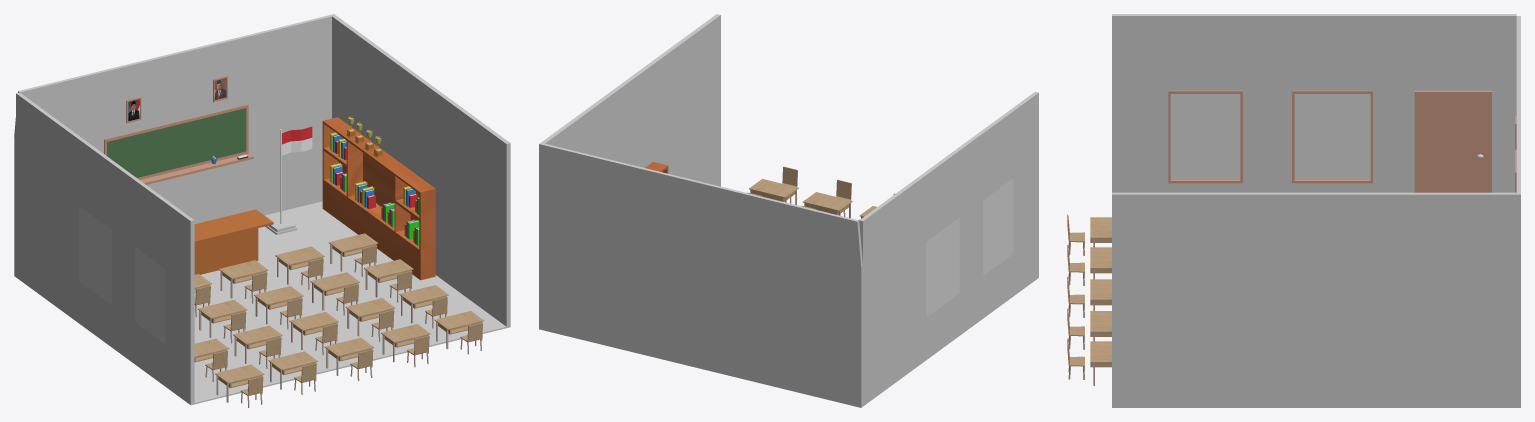
The model's file is Kelas.fbx.
The picture shows the model from 3 angles, left to right: view 1: azimuth 30°, elevation 25°; view 2: azimuth 150°, elevation 25°; view 3: azimuth 270°, elevation 25°; orthographic projection. The views are drawn at different scales.
Parts seen in each view (by area): view 1: Plane, Tembok utama, tembok kanan, Rak Buku, Papan, Pintu, Cube, Plane.003, Cube.004, Meja.007, Meja, Meja.010 (+14 smaller); view 2: Tembok utama, Plane, tembok kanan, Pintu, Plane.003, Meja.015, Meja.019; view 3: tembok kanan, Plane, Pintu, Plane.003, Tembok utama, Meja.019, Meja.018, Meja.016, Meja.015, Meja.017.
Boxes of the visible parts, x1,y1,x2,y2 form: Plane: (16, 92, 506, 404); Tembok utama: (14, 14, 335, 276); tembok kanan: (332, 15, 510, 327); Rak Buku: (322, 117, 435, 280); Papan: (104, 104, 253, 184); Pintu: (26, 166, 59, 309); Cube: (194, 209, 273, 274); Plane.003: (78, 203, 112, 307); Cube.004: (265, 126, 312, 234); Meja.007: (218, 260, 268, 298); Meja: (345, 298, 395, 336); Meja.010: (198, 300, 247, 337); Tembok utama: (539, 143, 862, 407); Plane: (859, 91, 1038, 406); tembok kanan: (541, 14, 720, 186); Pintu: (873, 254, 907, 398); Plane.003: (925, 215, 960, 319); Meja.015: (803, 192, 852, 218); Meja.019: (749, 179, 798, 204); tembok kanan: (1112, 192, 1516, 407); Plane: (1112, 14, 1516, 192); Pintu: (1414, 90, 1491, 192); Plane.003: (1292, 90, 1372, 183); Tembok utama: (1516, 16, 1520, 407); Meja.019: (1090, 341, 1111, 385); Meja.018: (1090, 247, 1111, 279); Meja.016: (1090, 279, 1111, 310); Meja.015: (1090, 311, 1111, 341); Meja.017: (1090, 217, 1111, 247).
Size of the model in its own units: 4186 by 2301 by 4439.
Materials: 21 (6 with a texture image).
